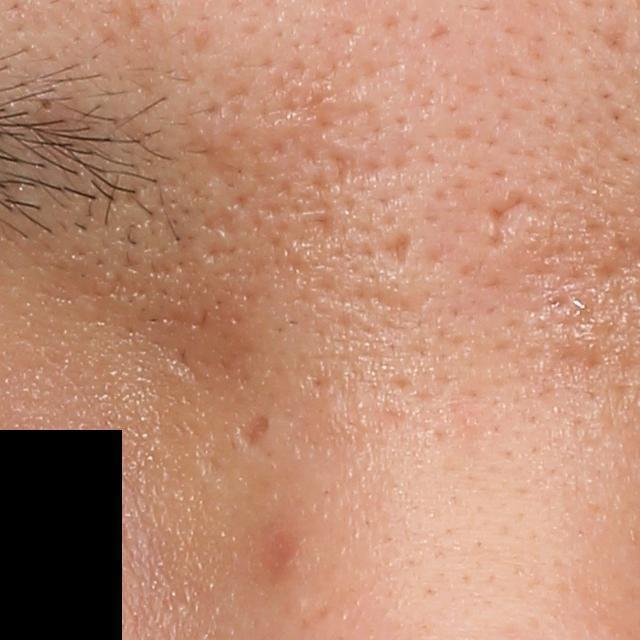atrophic_scar: (483, 192, 533, 251), (549, 338, 607, 380), (379, 223, 416, 270), (232, 412, 271, 454)
comedo: (32, 92, 61, 114)
